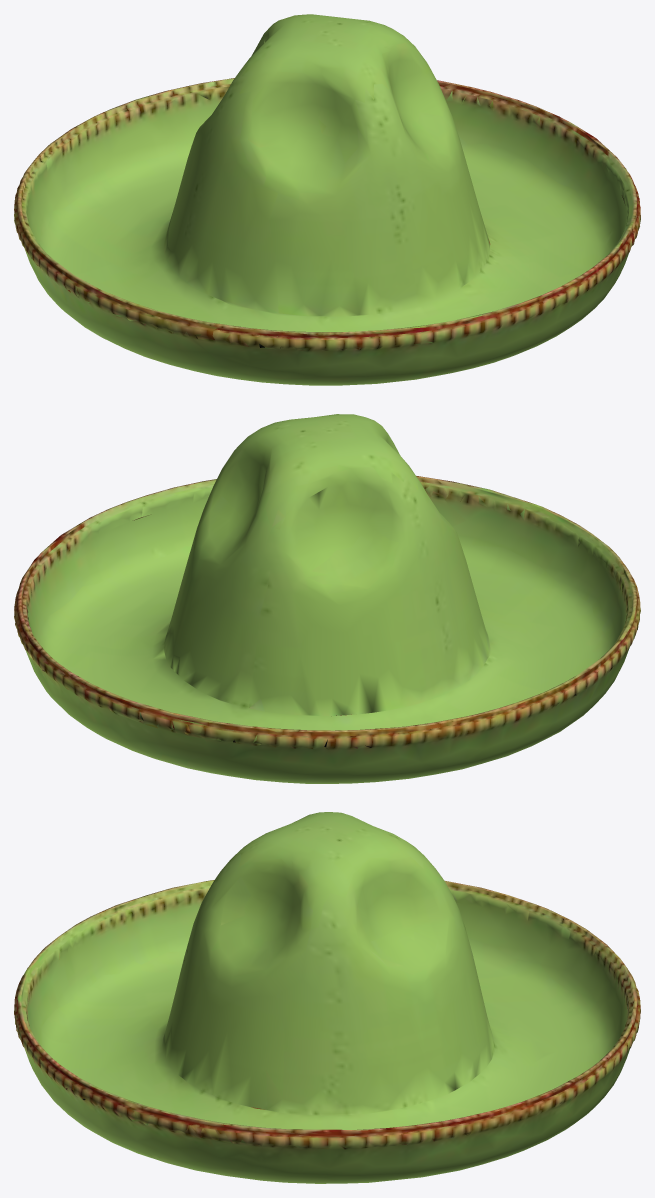
File: sombrero.glb
3 views of the same model, one above another, from view 1: azimuth 30°, elevation 25°; view 2: azimuth 150°, elevation 25°; view 3: azimuth 270°, elevation 25° (orthographic).
Visible parts, largest first — view 1: node_0; view 2: node_0; view 3: node_0.
Part boxes in pixels (x1,y1,x2,y2): node_0: (14, 14, 640, 385); node_0: (14, 414, 640, 783); node_0: (14, 812, 640, 1183).
Bounding box in the file's own units: 0.62 × 0.2658 × 0.6213.
1 material, 1 textured.
